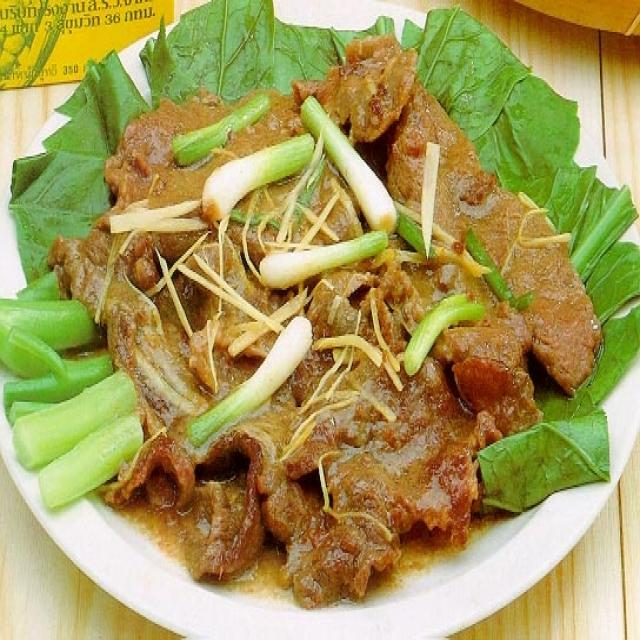牛肉菜式: (15, 32, 613, 608)
